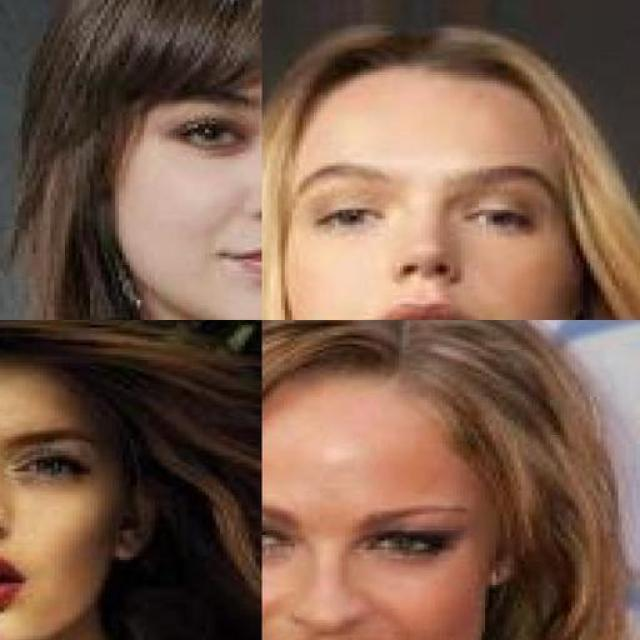bareface: (266, 22, 640, 312)
